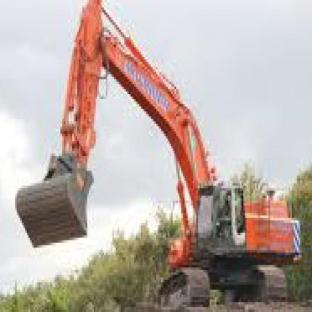ExcavationMachinery: (14, 1, 303, 301)
